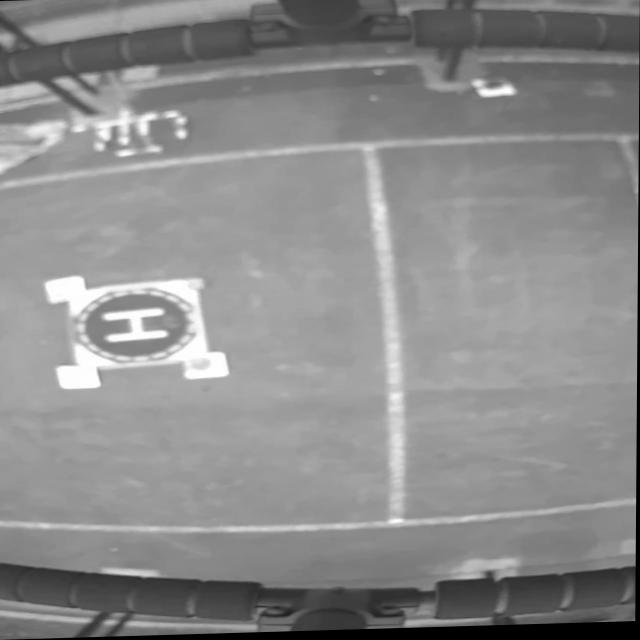Helipad: (105, 307, 170, 342)
